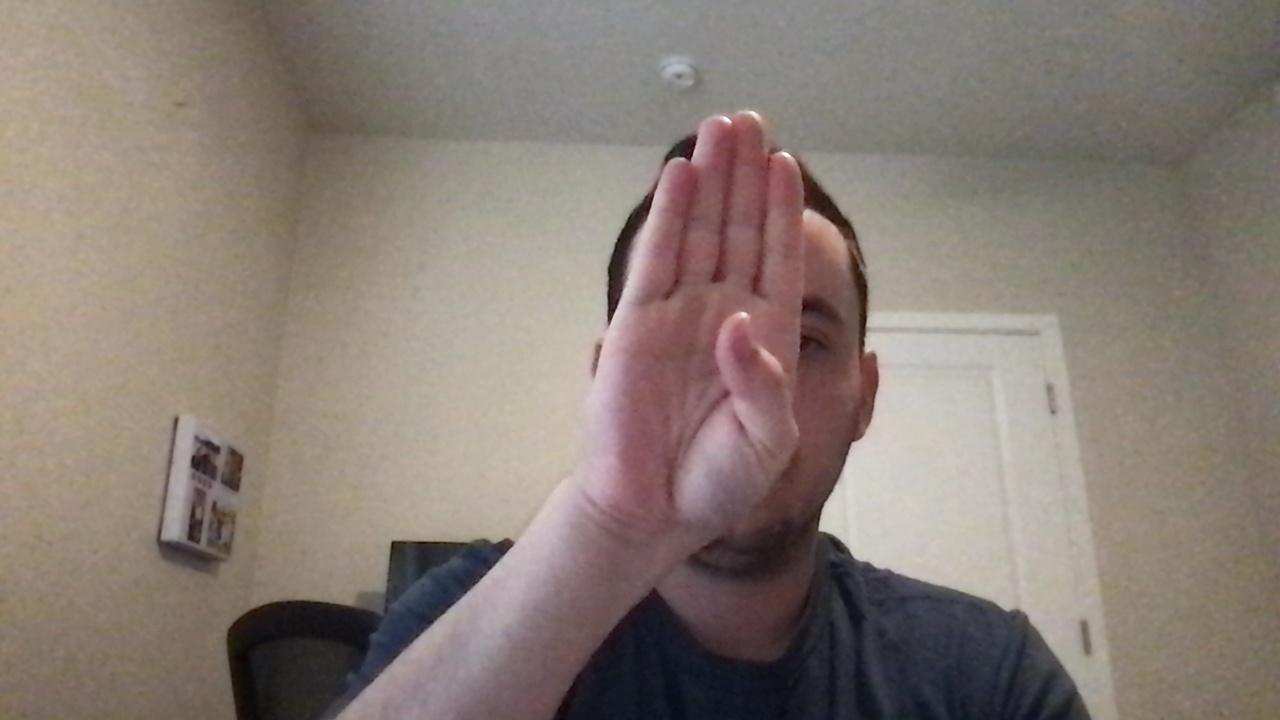b: (575, 111, 830, 550)
